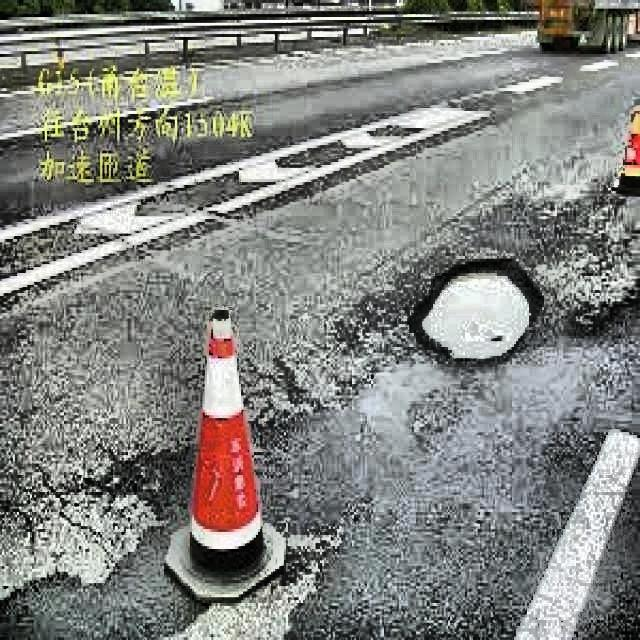buraco: (416, 253, 540, 364)
